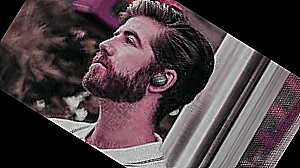earphone: (144, 62, 180, 100)
